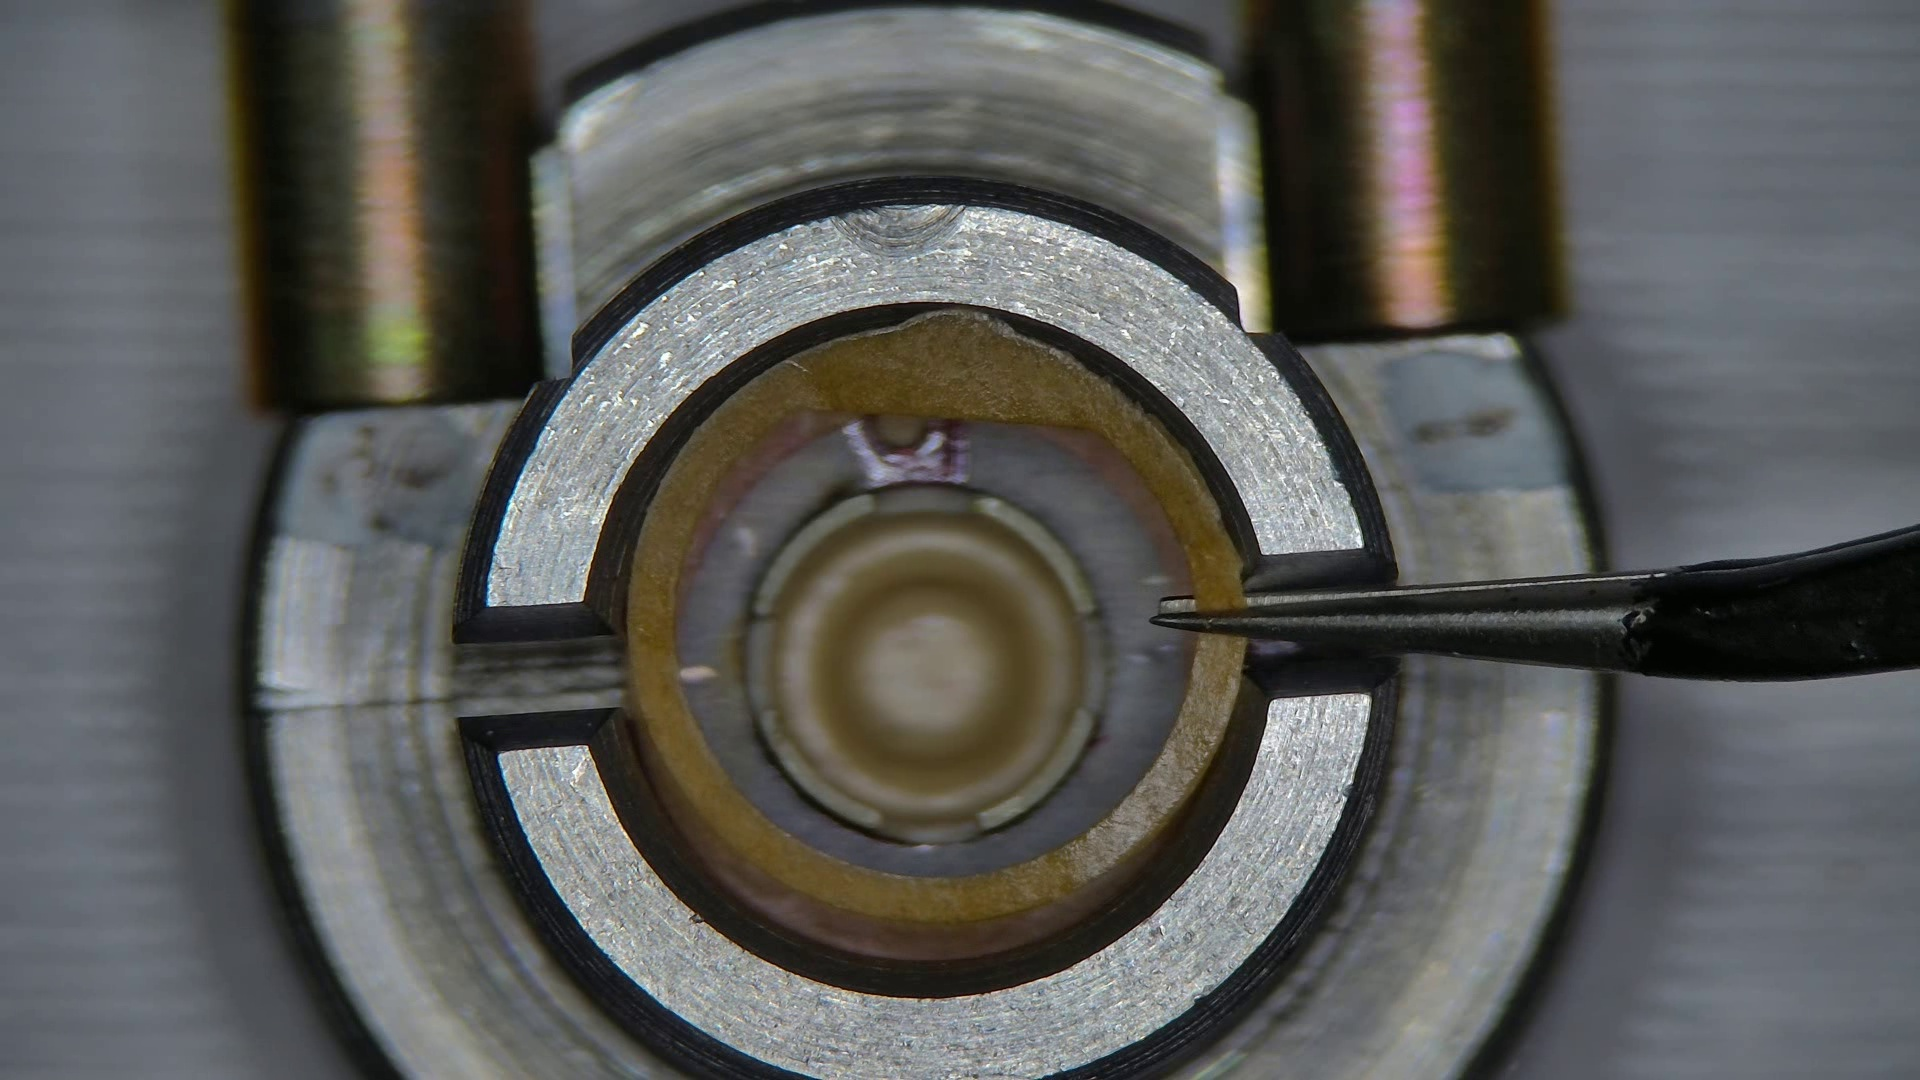GreyOring: (636, 741, 1147, 959), (1051, 423, 1185, 593), (694, 413, 843, 541)
YellowOring: (676, 422, 1185, 876)
redOring: (626, 315, 1242, 922)
